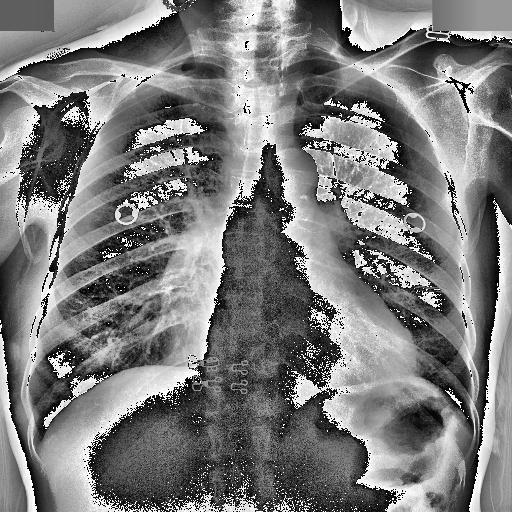0- Aortic enlargement: (264, 150, 318, 198)
13- Pulmonary fibrosis: (413, 279, 459, 296), (414, 281, 464, 296), (416, 280, 458, 296)
